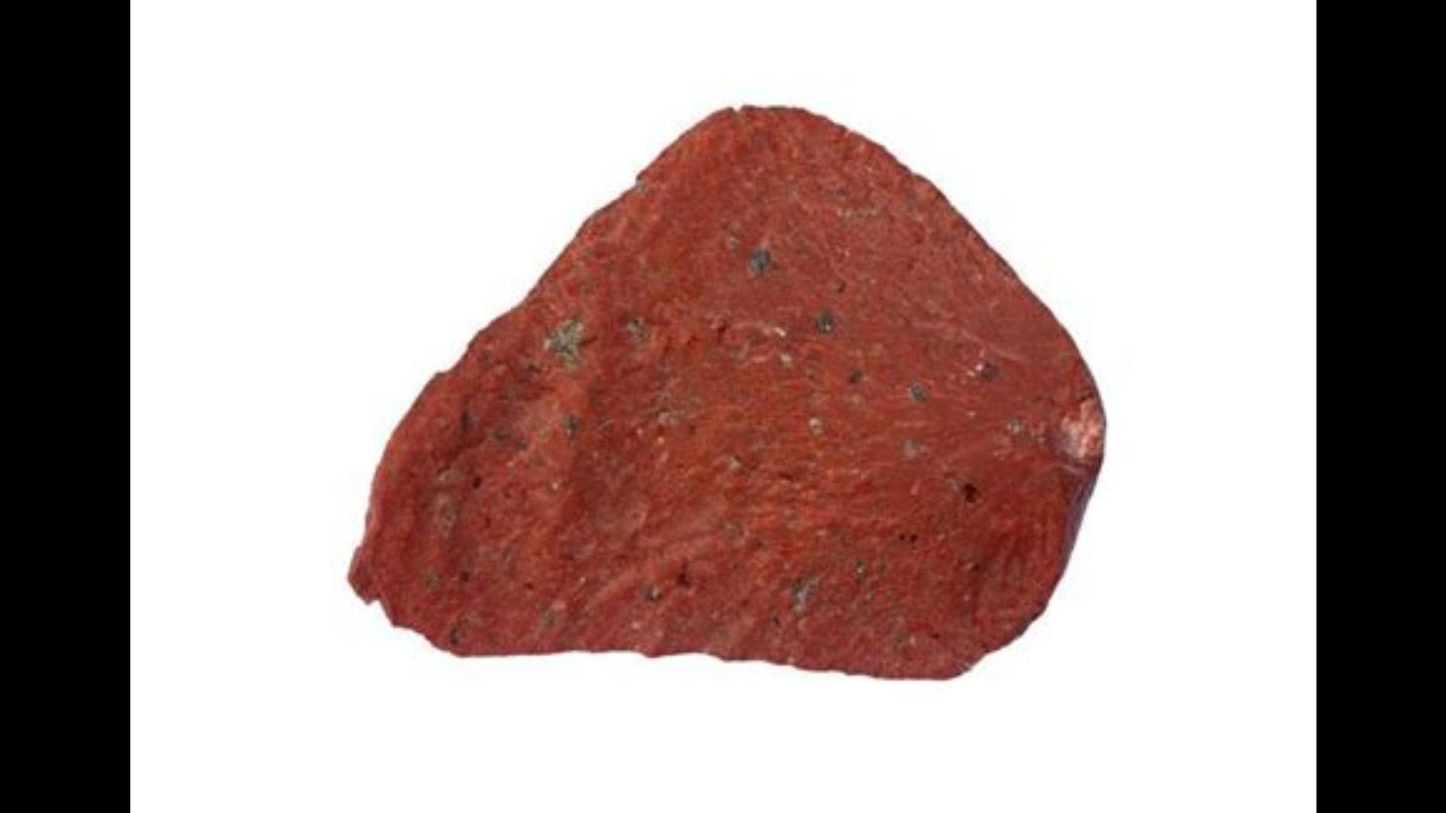rock: (347, 110, 1101, 675)
